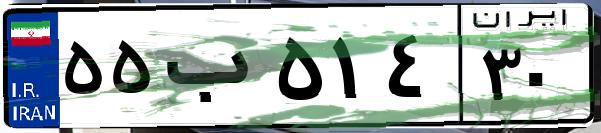0: (525, 38, 570, 115)
1: (330, 28, 385, 110)
3: (475, 38, 525, 113)
4: (385, 28, 445, 110)
5: (270, 28, 330, 110), (57, 26, 110, 100), (110, 28, 158, 98)
ب: (158, 20, 270, 120)
